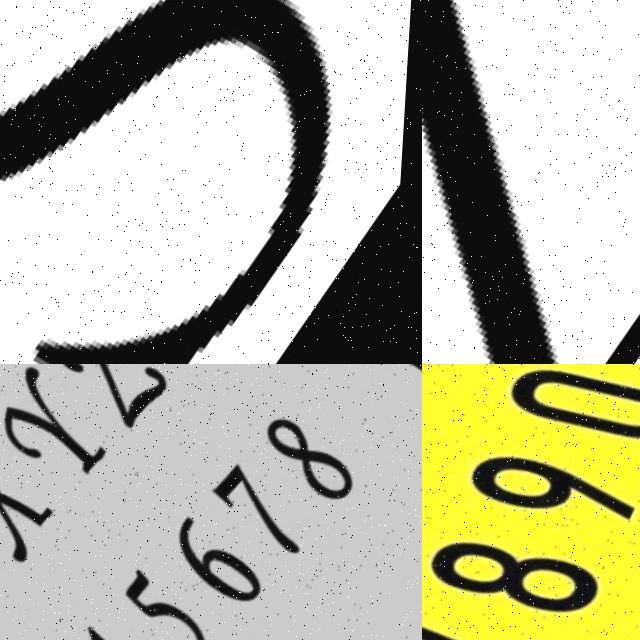0: (464, 364, 640, 533)
1: (69, 364, 245, 396)
4: (39, 595, 211, 640)
5: (81, 535, 265, 640)
6: (128, 485, 313, 640)
7: (177, 433, 363, 605), (422, 546, 595, 640)
8: (422, 463, 640, 640), (215, 377, 412, 560)
9: (425, 377, 640, 615)
S: (0, 0, 422, 364)
Z: (422, 0, 640, 364)
